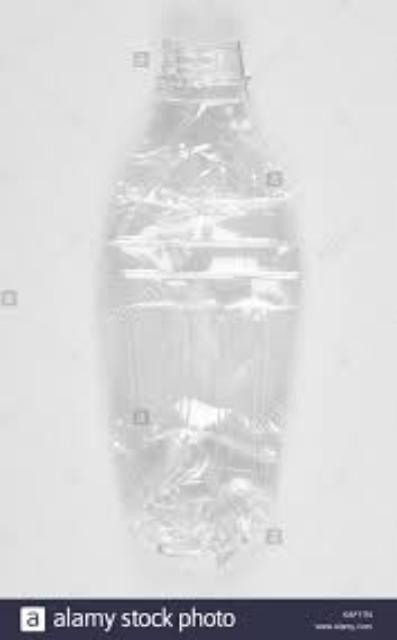plastic: (106, 36, 296, 570)
